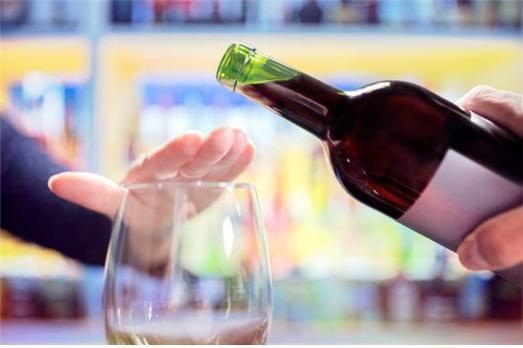alcohol: (214, 43, 520, 285), (104, 182, 275, 344)
